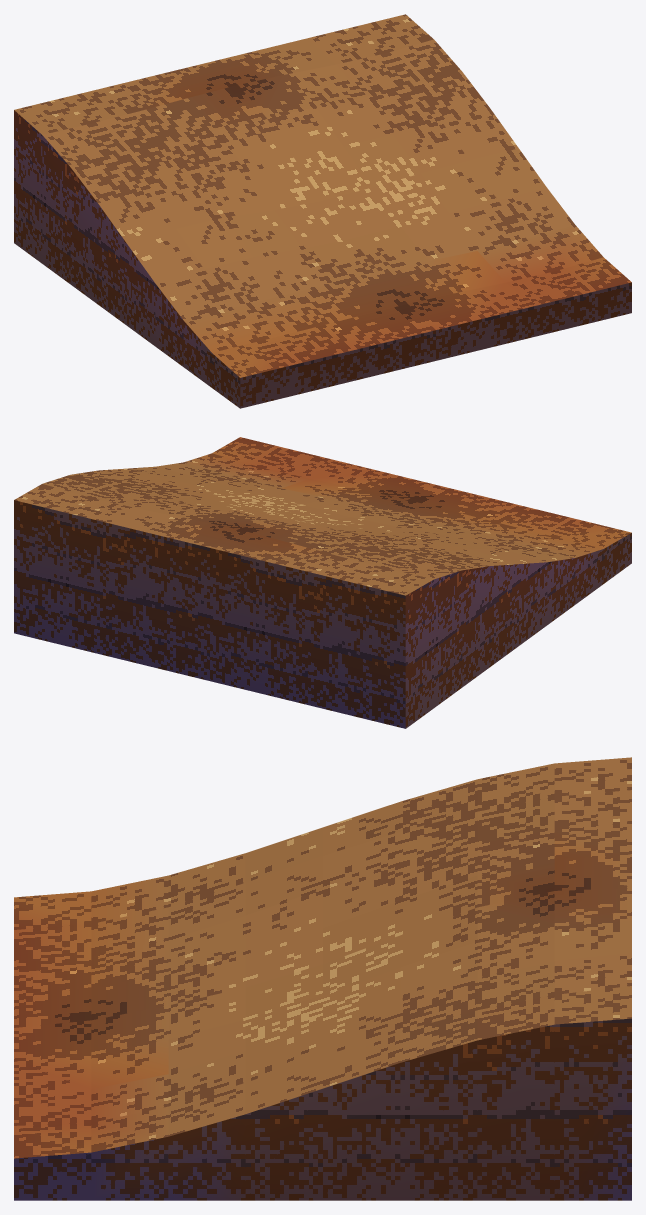
The model's file is planet.rise.glb.
The picture shows the model from 3 angles, top to bottom: view 1: azimuth 30°, elevation 25°; view 2: azimuth 150°, elevation 25°; view 3: azimuth 270°, elevation 25°; orthographic projection. The views are drawn at different scales.
Parts seen in each view (by area): view 1: kit_ground; view 2: kit_ground; view 3: kit_ground.
Part boxes in pixels (x1=…): kit_ground: x1=14, y1=14, x2=631, y2=408; kit_ground: x1=14, y1=437, x2=631, y2=728; kit_ground: x1=14, y1=757, x2=631, y2=1200.
Size of the model in its own units: 8 by 2.6 by 8.
Materials: 2 (2 with a texture image).
